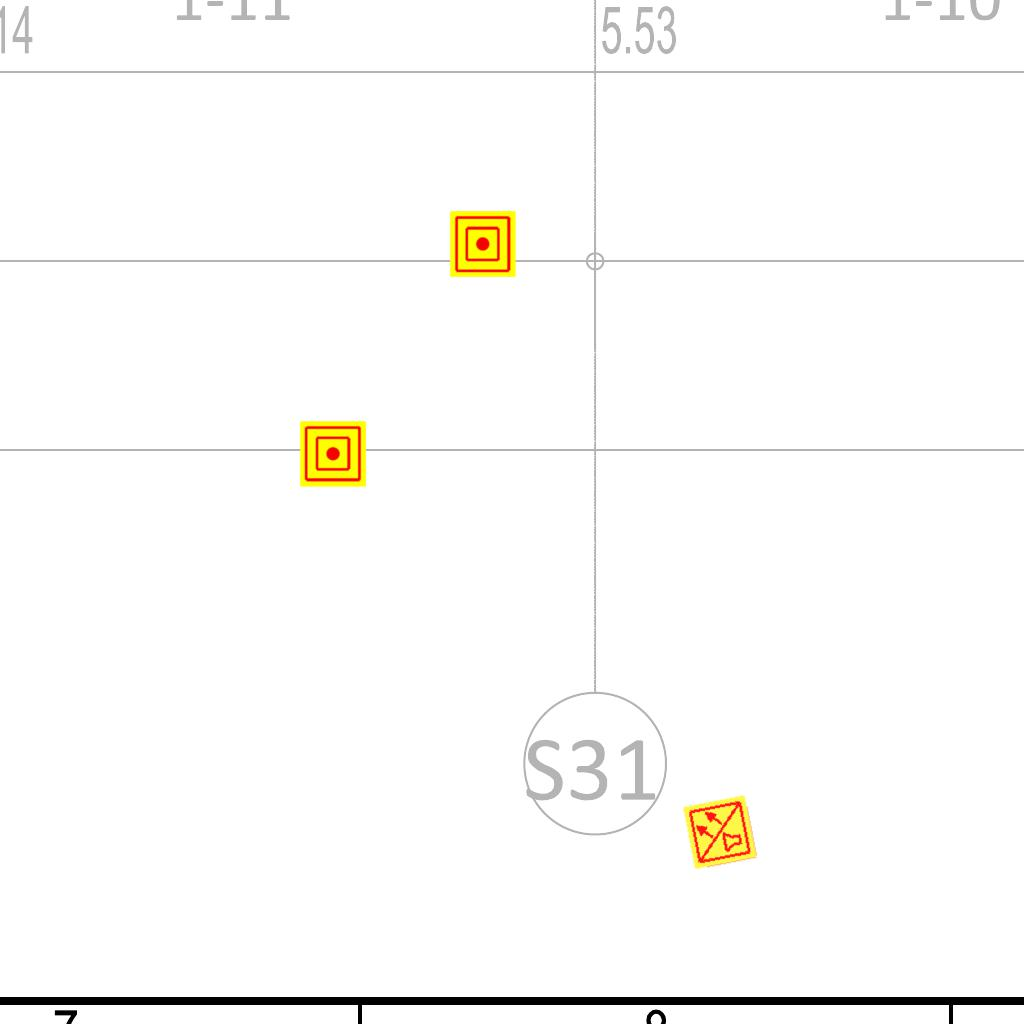NAM-Nichtautomatischer_Melder: (450, 211, 516, 277), (300, 421, 366, 487)
OKW_Multisensormelder_(Kombination_optischer_Rauch-Kahlenmonoxid_Waerme-Melder): (681, 793, 759, 871)
